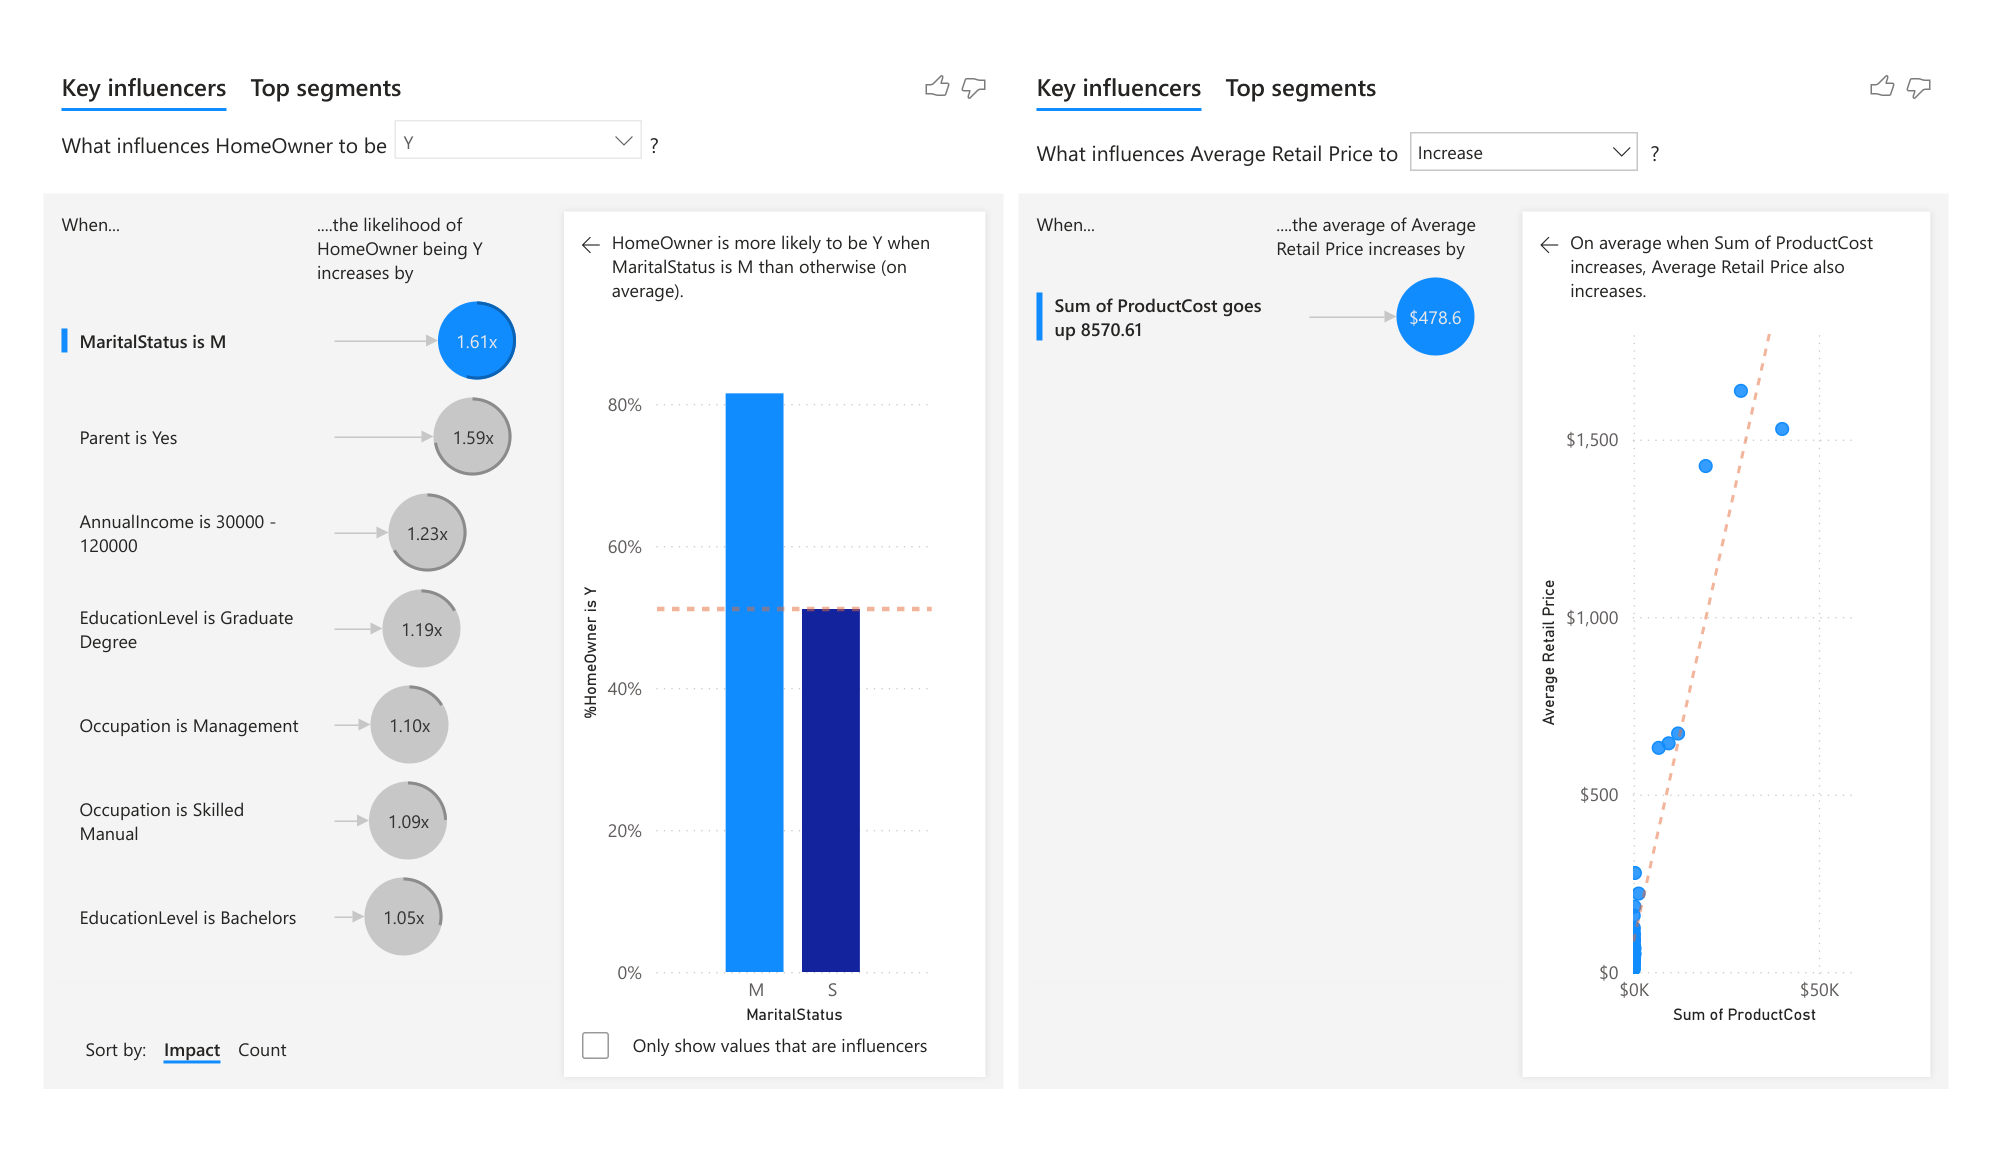

Layout of this report page (visuals, bound fields, positions):
{"tool":"powerbi","page":{"name":"Key Influencers","canvas":[1280,720],"ordinal":7},"visuals":[{"type":"keyDriversVisual","fields":{"ExplainBy":["Customer Lookup.AnnualIncome","Customer Lookup.EducationLevel","Customer Lookup.Parent","Customer Lookup.MaritalStatus","Customer Lookup.Occupation"],"Target":["Customer Lookup.HomeOwner"]},"box":[0,10,649.9,696.6],"z":0},{"type":"keyDriversVisual","fields":{"Details":["Product Subcategories Lookup.SubcategoryName"],"ExplainBy":["Sum(Product Lookup.ProductCost)"],"Target":["Measure Table.Average Retail Price"]},"box":[649.9,10,629.9,696.6],"z":1000}]}

Visuals, with their boxes in screenshot pixels (x1, y1, x2, y2), scaled from the page's 1280x720 canvas onto the 1992x1152 screenshot:
keyDriversVisual - Customer Lookup.AnnualIncome x Customer Lookup.EducationLevel: 0 16 1011 1131
keyDriversVisual - Product Subcategories Lookup.SubcategoryName x Sum(Product Lookup.ProductCost): 1011 16 1991 1131
